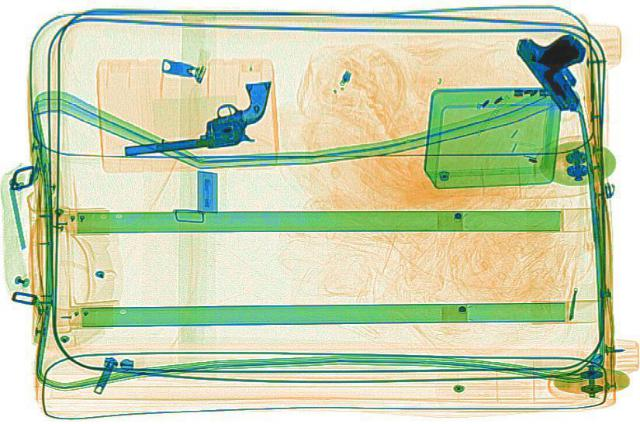Gun: (101, 79, 303, 158), (512, 27, 604, 114)
